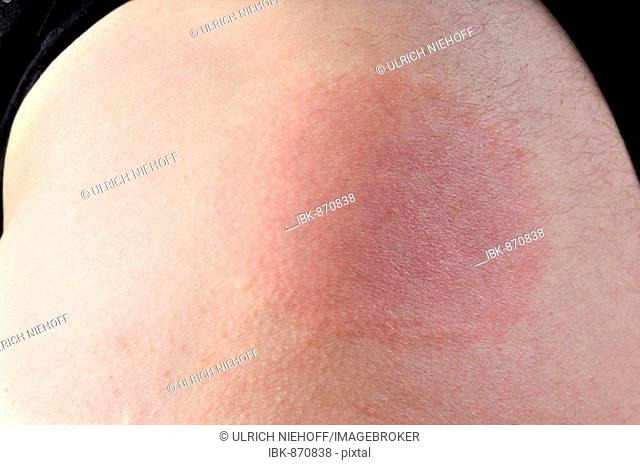Ringworm: (245, 53, 554, 350)
